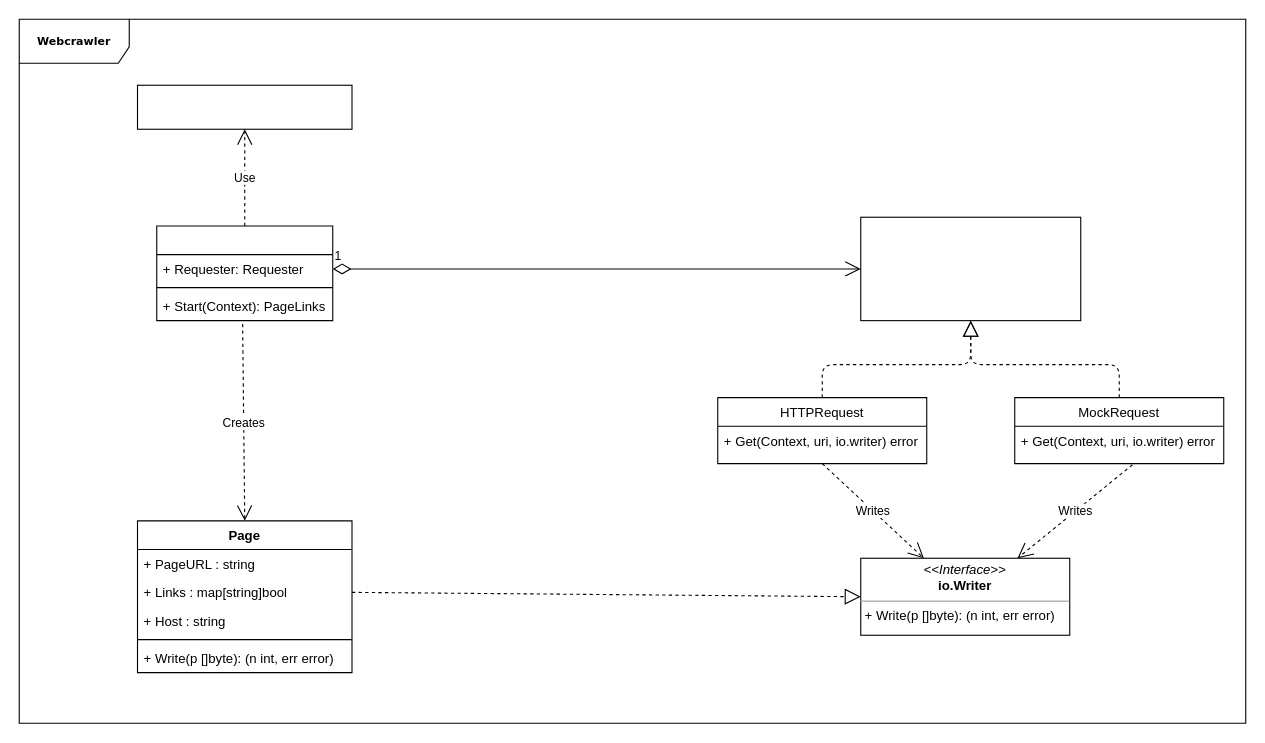
The diagram is 1265 pixels wide and 743 high, and some of its shapes have lost their labels. Each missing label, with the box of its shape:
<<DataType>> PageLinks : map[string][]string: (136, 84, 352, 129)
<<Interface>> Requester + Get(Context, uri, io.writer) error: (860, 216, 1081, 321)
Crawler: (156, 225, 333, 321)
